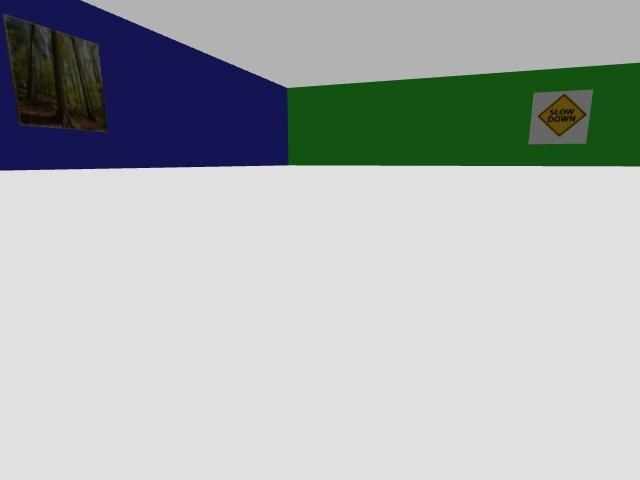slowsign: (529, 90, 592, 144)
tree: (70, 37, 95, 120), (51, 30, 72, 127), (88, 44, 101, 90), (28, 23, 35, 102)
